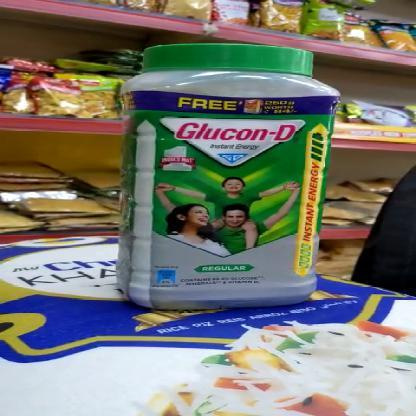Glucon D Regular 2-KG: (124, 44, 323, 306)
